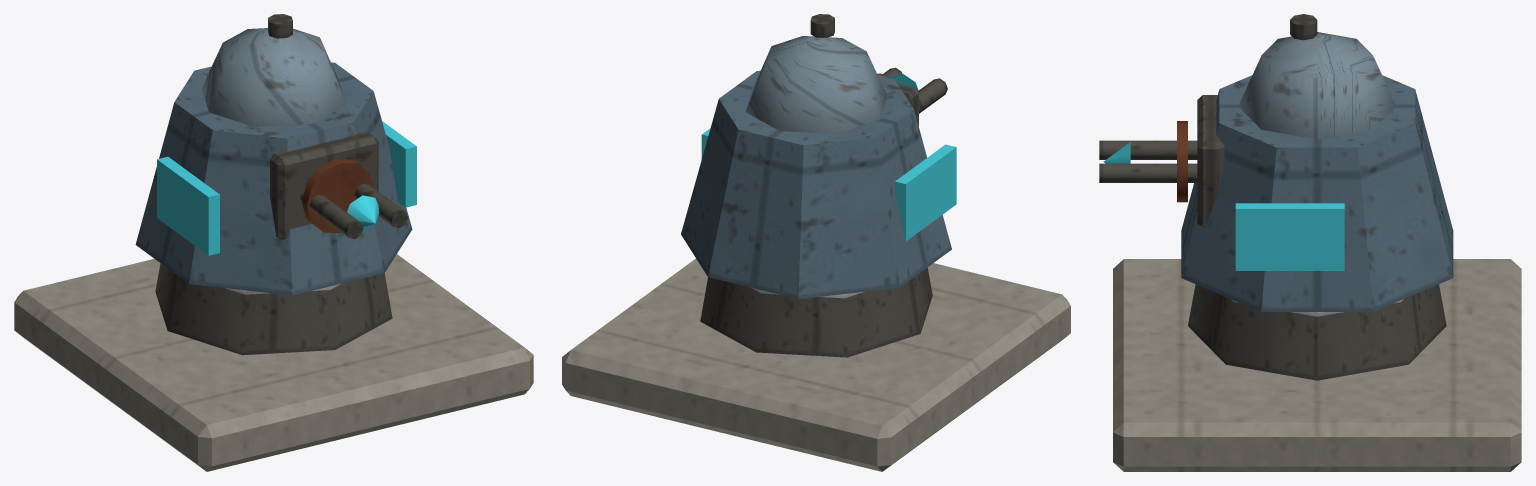
The picture shows the model from 3 angles, left to right: view 1: azimuth 30°, elevation 25°; view 2: azimuth 150°, elevation 25°; view 3: azimuth 270°, elevation 25°; orthographic projection. The views are drawn at different scales.
Parts seen in each view (by area): view 1: dweller_building_turret_laser; view 2: dweller_building_turret_laser; view 3: dweller_building_turret_laser.
Boxes of the visible parts, left/top/right/bottom form: dweller_building_turret_laser: left=14, top=14, right=533, bottom=471; dweller_building_turret_laser: left=562, top=14, right=1070, bottom=471; dweller_building_turret_laser: left=1099, top=14, right=1521, bottom=471.
Size of the model in its own units: 3 by 3 by 3.1.
Materials: 7 (7 with a texture image).
